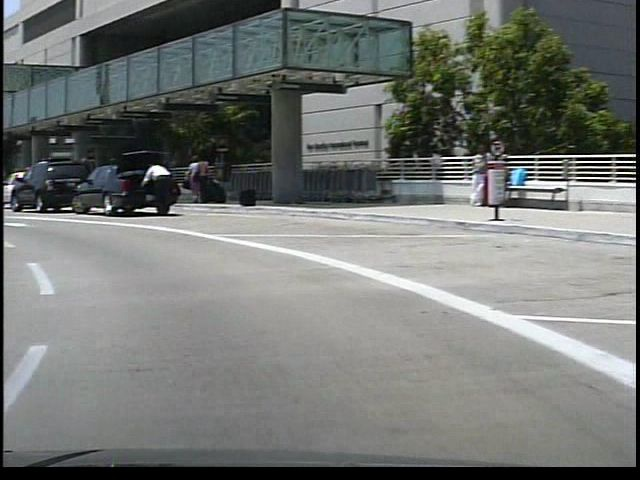person: (134, 163, 172, 222), (191, 155, 209, 209), (180, 157, 197, 207)
